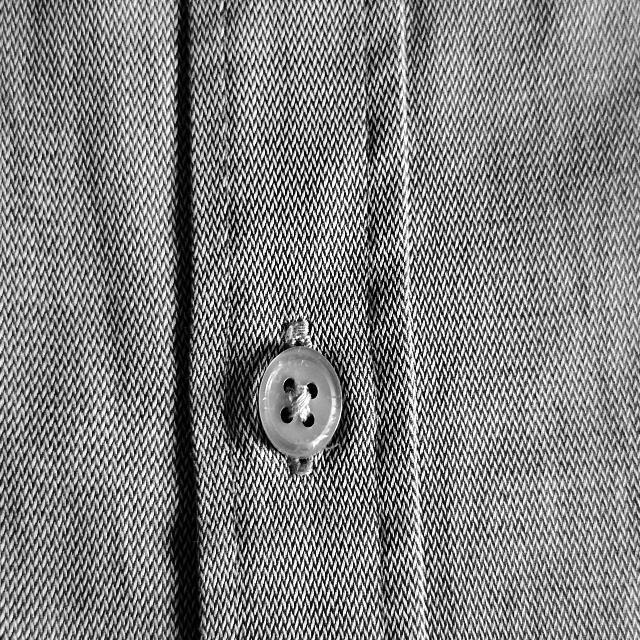Button_hike: (231, 304, 366, 506)
